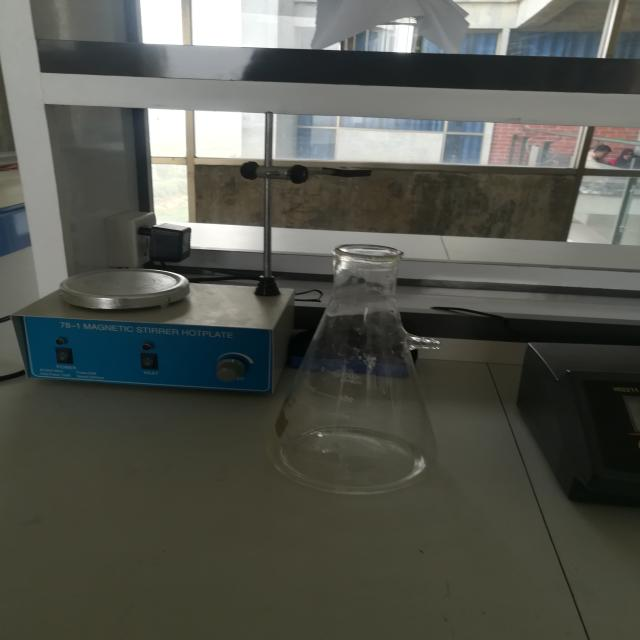Conical_Flask: (242, 194, 476, 515)
